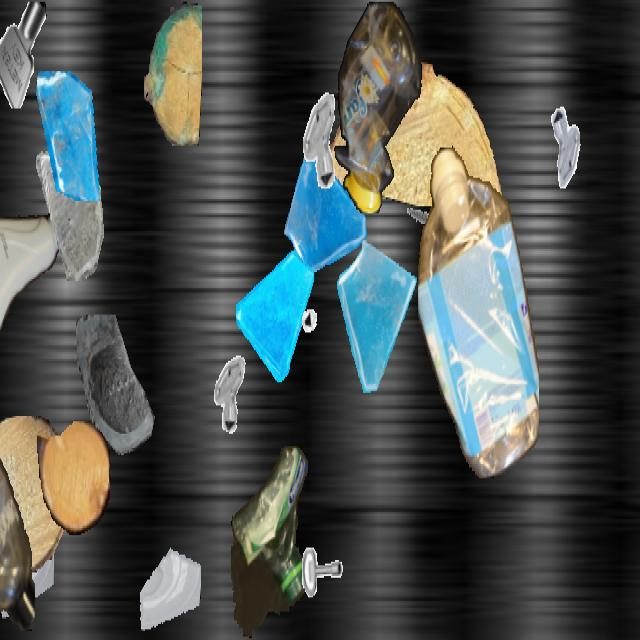glass: (73, 314, 167, 482), (331, 236, 423, 400), (283, 135, 371, 292), (236, 244, 314, 382), (33, 149, 107, 281), (33, 71, 105, 199), (139, 526, 201, 636), (0, 517, 53, 617)
metal: (289, 89, 347, 192), (296, 539, 352, 638), (0, 2, 51, 108), (544, 101, 592, 187), (203, 348, 251, 434), (402, 185, 446, 263), (299, 277, 337, 345), (0, 345, 3, 455)
plastic: (418, 144, 538, 478), (333, 2, 423, 212), (231, 443, 309, 638), (0, 203, 62, 430), (0, 372, 34, 638), (0, 416, 24, 580)
wood: (327, 62, 513, 204), (0, 416, 69, 572), (144, 2, 202, 144), (37, 421, 109, 535)
